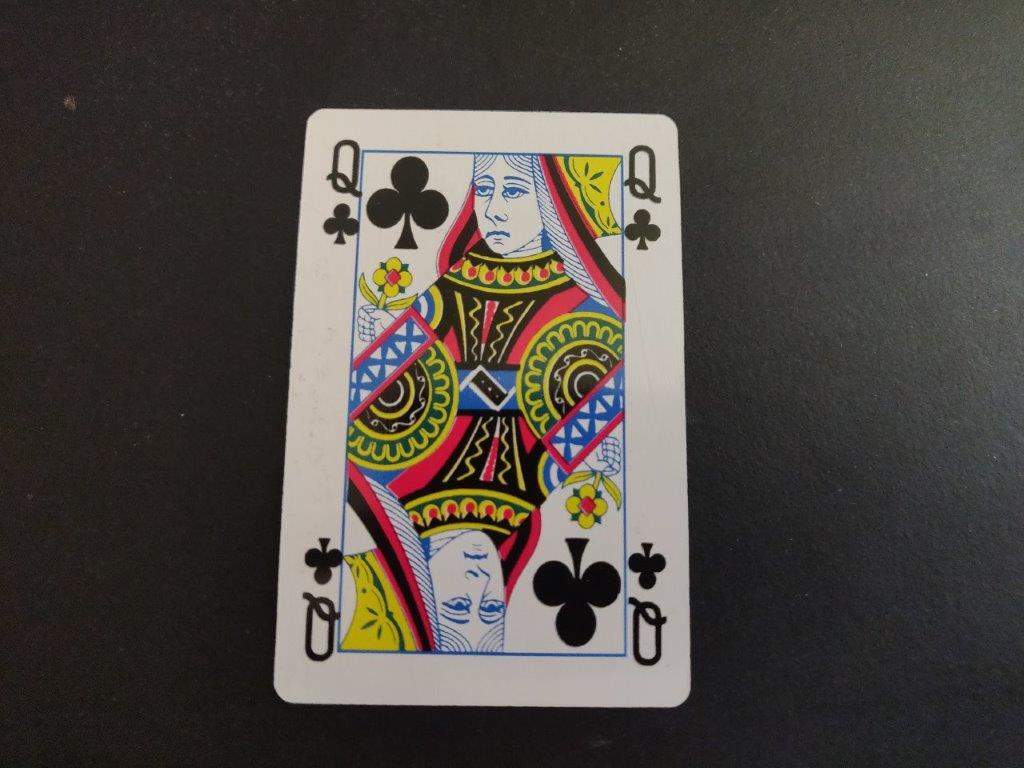QC: (620, 143, 667, 259), (320, 137, 365, 253)
